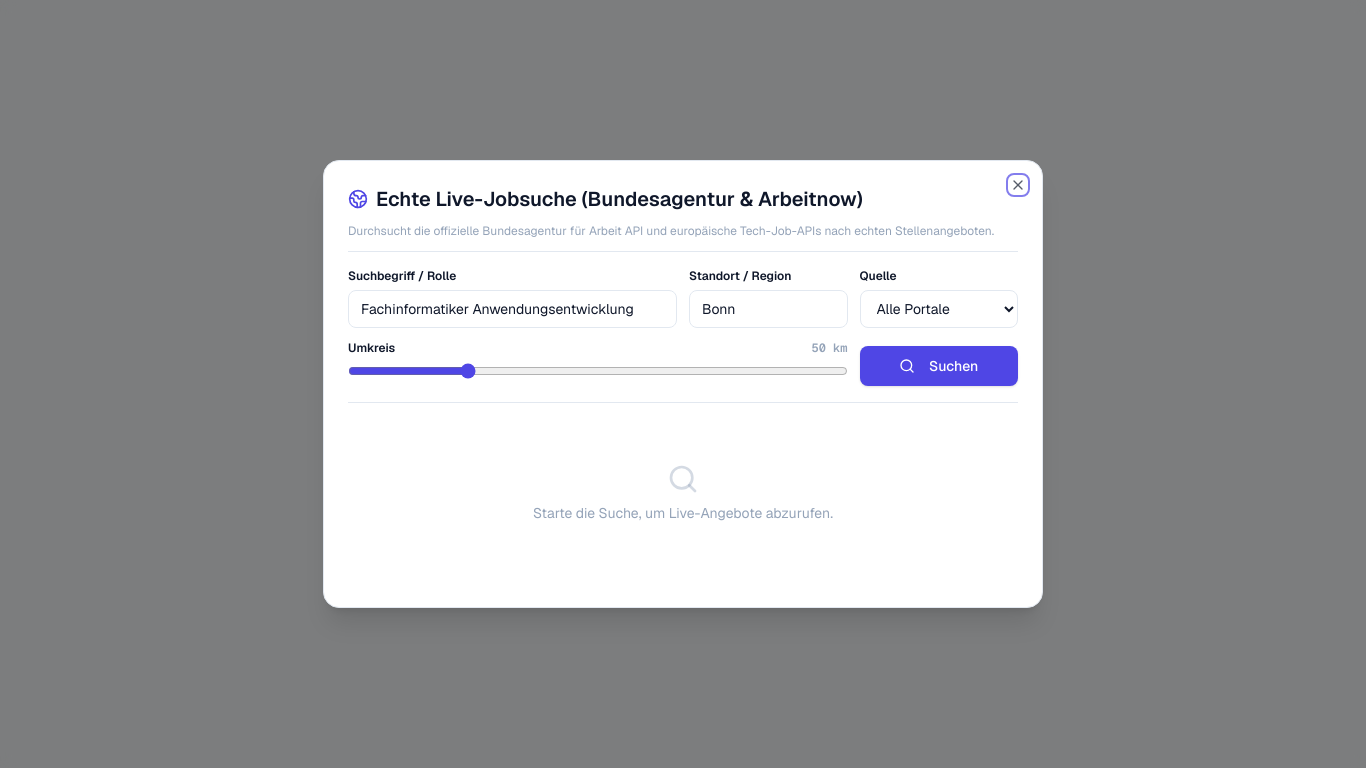
LiveJobSearchModal › zeigt gefundene Treffer inklusive Match-Score nach erfolgreicher Suche an
Click the button "Suchen": (939, 366) x1=860 y1=346 x2=1018 y2=386
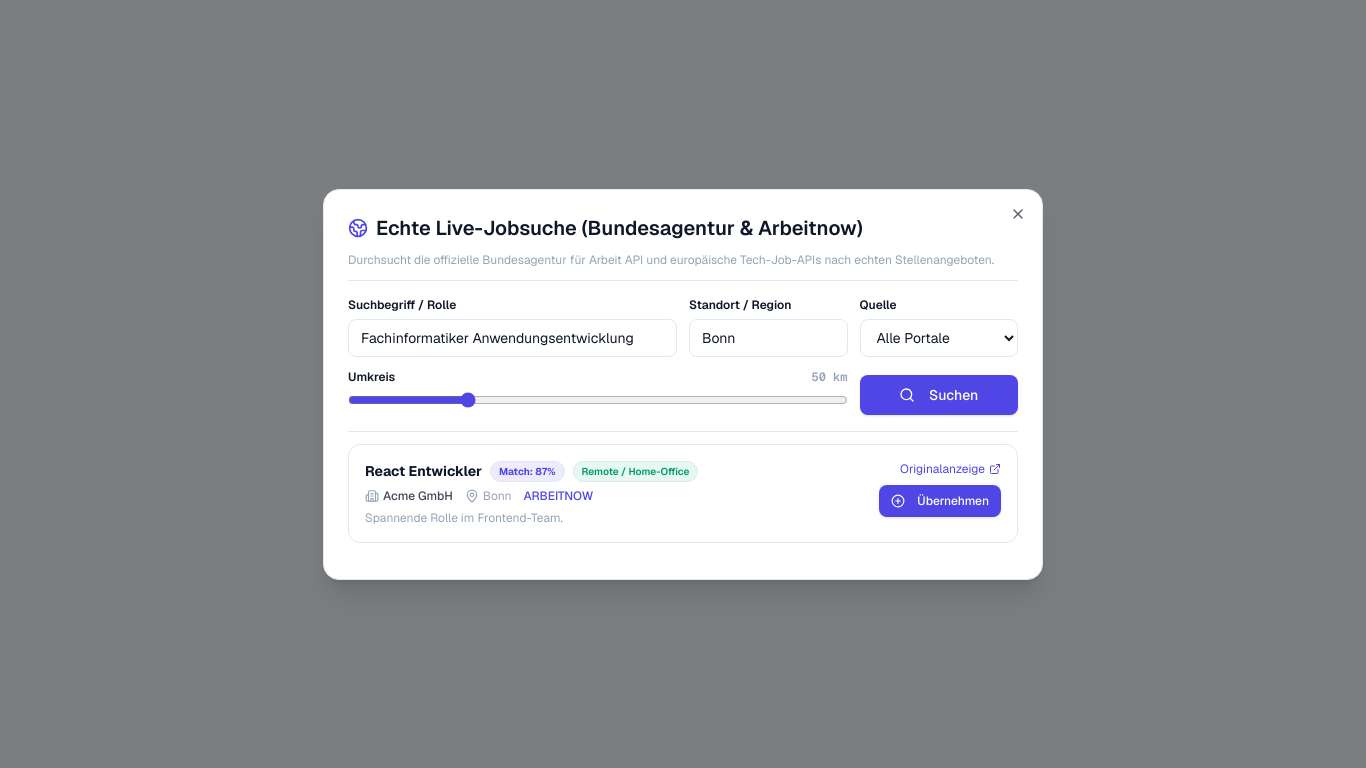
Expected: the text "React Entwickler" is shown, x1=365 y1=461 x2=482 y2=481
Expected: the text "Match: 87%" is shown, x1=490 y1=460 x2=564 y2=482
Expected: the text "Acme GmbH" is shown, x1=365 y1=488 x2=453 y2=504
